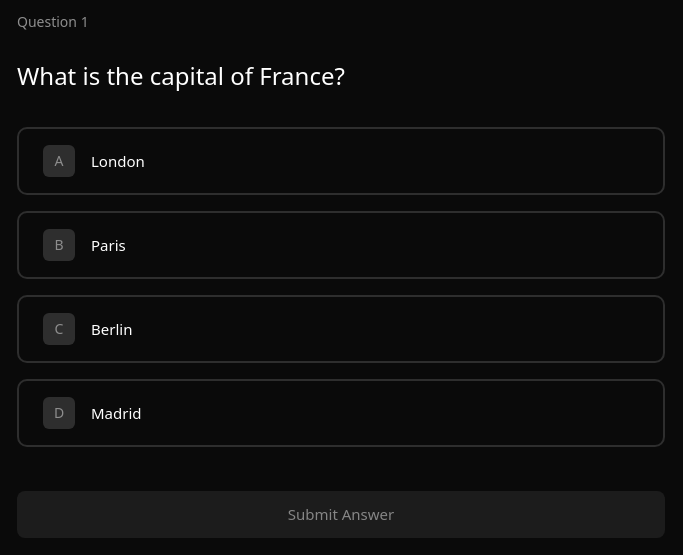
StudentQuizQuestions › Answer Selection › should enable submit button when choice is selected
Check: the button "Submit Answer" is disabled, box [17,491,665,538]
Click the button "B Paris" at (59, 245), box [17,211,665,279]
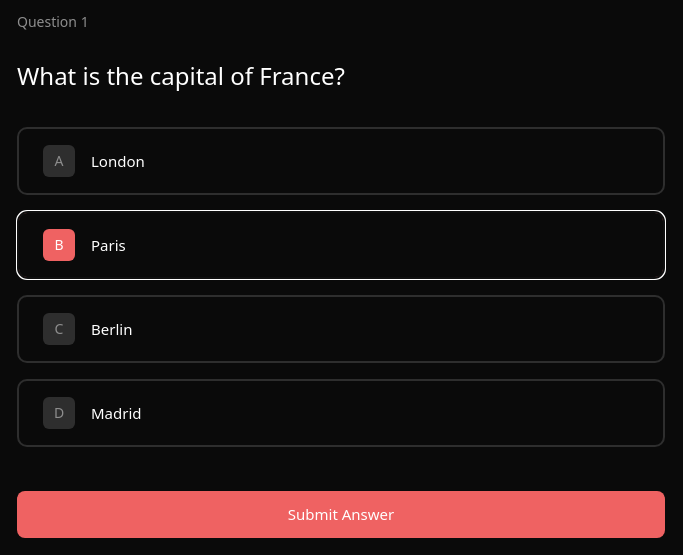
Check: the button "Submit Answer" is enabled, box [17,491,665,538]
